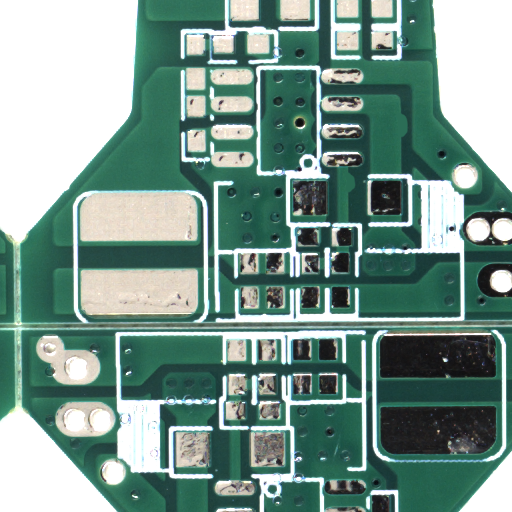Spur: (403, 125, 412, 149), (350, 183, 359, 204)
